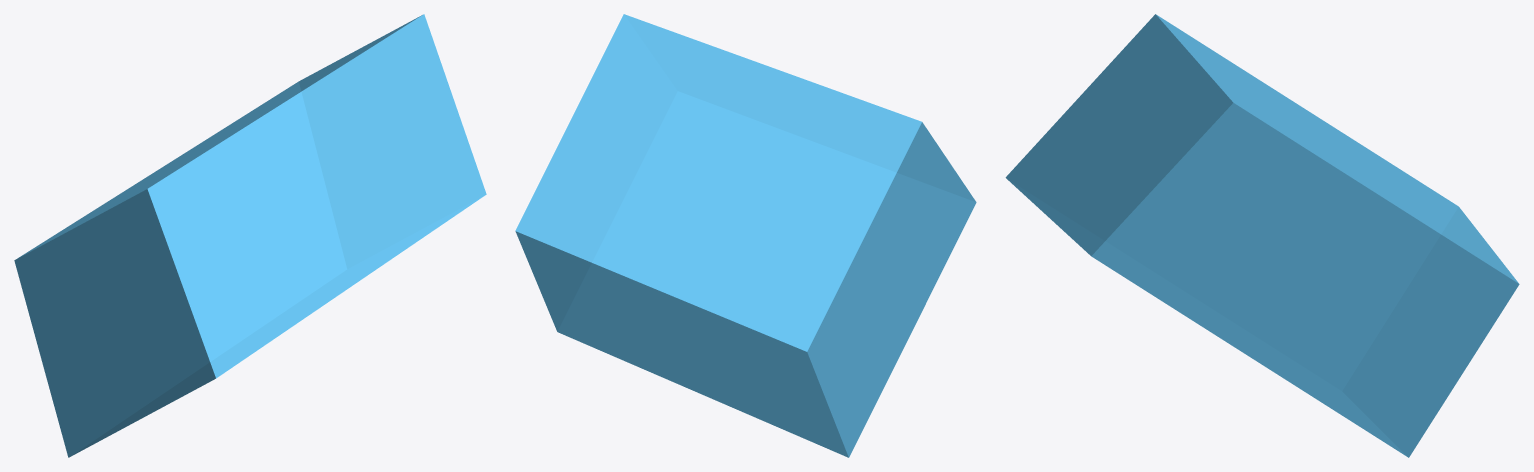
Rendered from Event_420094457_HErechit_57.fbx.
3 views of the same model, side by side, from view 1: azimuth 30°, elevation 25°; view 2: azimuth 150°, elevation 25°; view 3: azimuth 270°, elevation 25° (orthographic). The views are drawn at different scales.
Visible parts, largest first — view 1: Model; view 2: Model; view 3: Model.
Part boxes in pixels (box(x1,y1,x2,y2)): Model: box(14, 14, 486, 457); Model: box(515, 14, 976, 457); Model: box(1005, 14, 1519, 457).
Bounding box in the file's own units: 0.6713 × 0.8324 × 0.8431.
